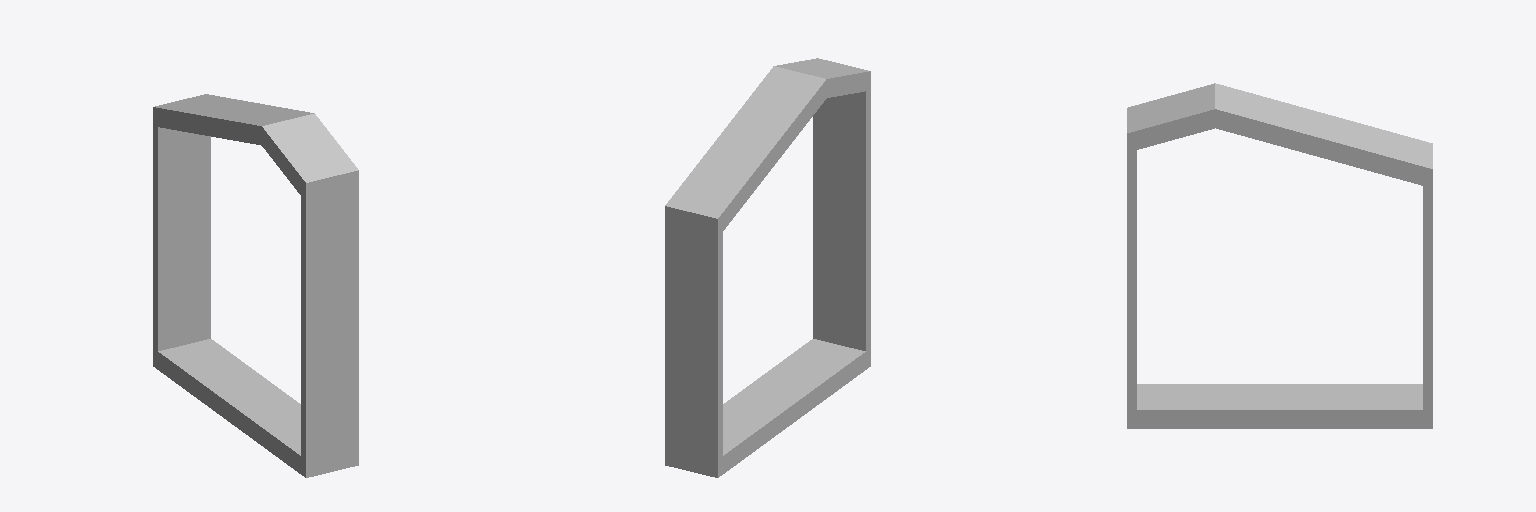
File: 3D_4.1_SIM.obj
The picture shows the model from 3 angles: view 1: azimuth 30°, elevation 25°; view 2: azimuth 150°, elevation 25°; view 3: azimuth 270°, elevation 25°; orthographic projection.
Parts seen in each view (by area): view 1: 3D_4.1_SIM; view 2: 3D_4.1_SIM; view 3: 3D_4.1_SIM.
Part boxes in pixels (x1,y1,x2,y2): 3D_4.1_SIM: (153,94,358,477); 3D_4.1_SIM: (665,58,870,477); 3D_4.1_SIM: (1127,83,1432,428).
Size of the model in its own units: 0.6 by 3.46 by 3.